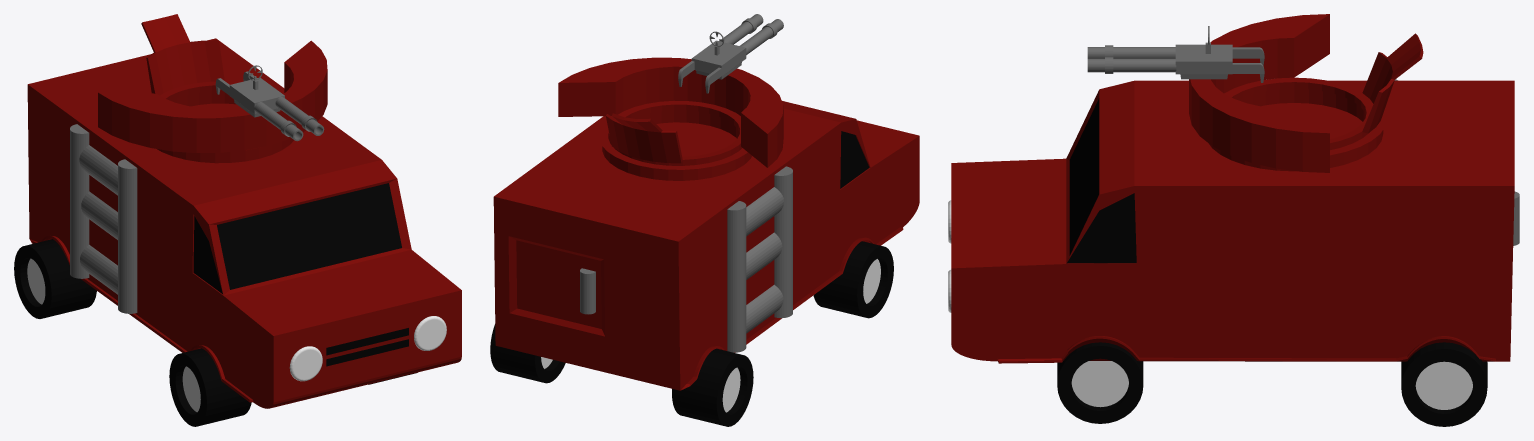
The model's file is Gun_Car4.fbx.
3 renders of one model, left to right at view 1: azimuth 30°, elevation 25°; view 2: azimuth 150°, elevation 25°; view 3: azimuth 270°, elevation 25°, orthographic. The views are drawn at different scales.
Visible parts, largest first — view 1: Cube, Circle.006, Circle.001; view 2: Cube, Circle.006, Circle.001, Cylinder; view 3: Cube, Circle.006, Circle.001.
Part boxes in pixels (left/top/right/bottom): Cube: left=14, top=38, right=461, bottom=426; Circle.006: left=98, top=14, right=327, bottom=163; Circle.001: left=215, top=65, right=324, bottom=141; Cube: left=490, top=101, right=919, bottom=426; Circle.006: left=558, top=57, right=783, bottom=180; Circle.001: left=678, top=14, right=783, bottom=93; Cylinder: left=580, top=268, right=595, bottom=314; Cube: left=948, top=79, right=1514, bottom=426; Circle.006: left=1189, top=14, right=1423, bottom=172; Circle.001: left=1087, top=26, right=1264, bottom=82.
Bounding box in the file's own units: 244 × 300 × 459.
